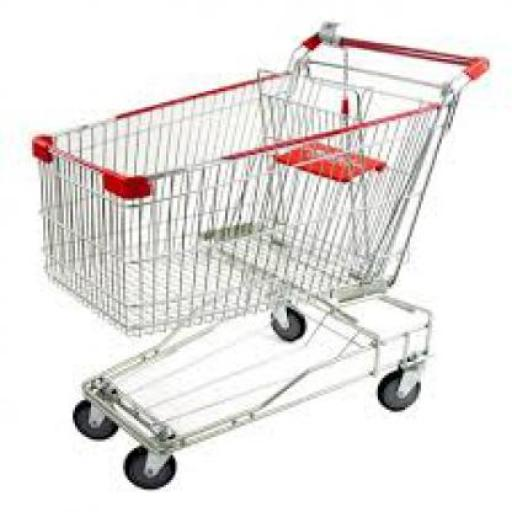shopping_cart: (31, 21, 490, 493)
